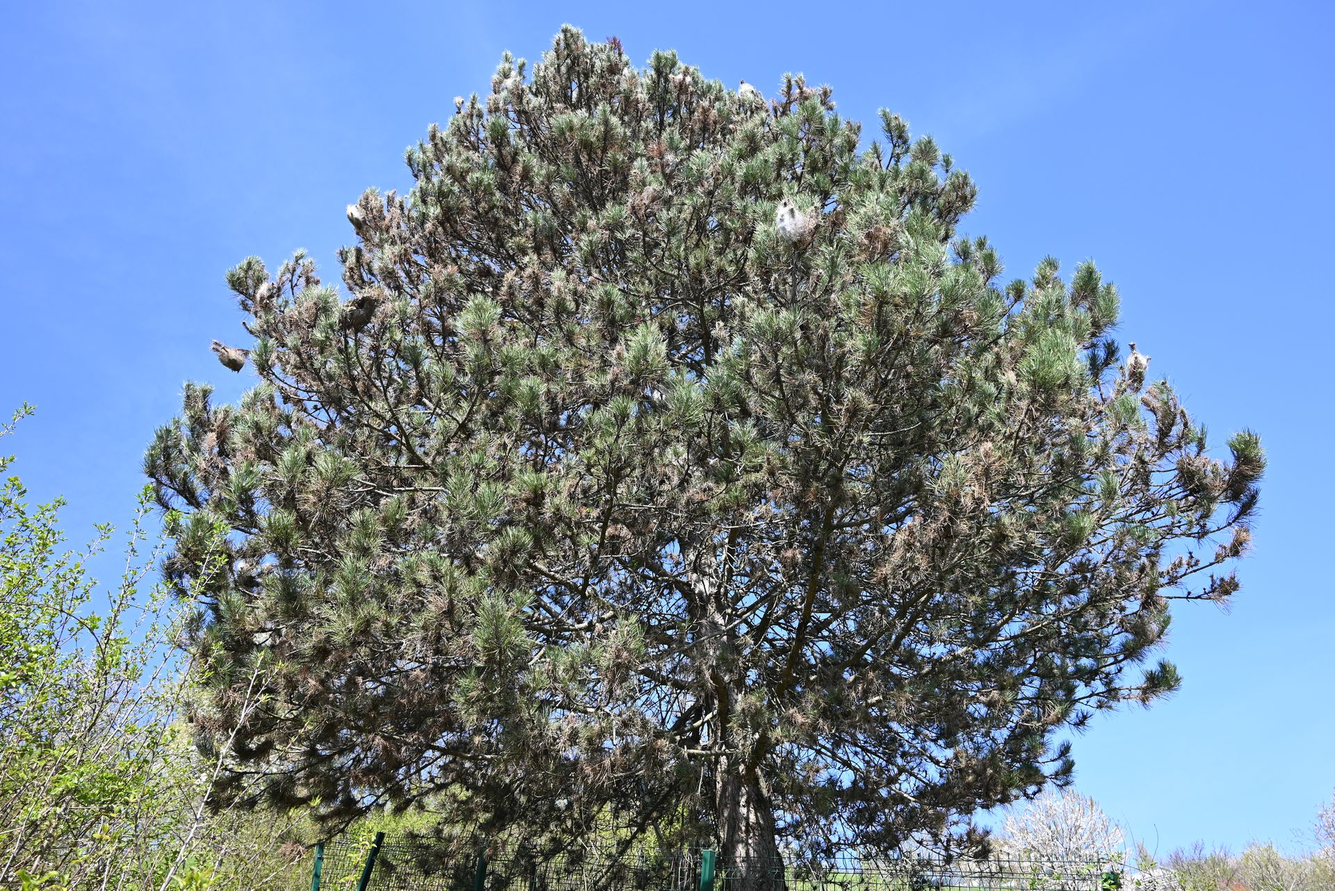thaumatopoea pityocampa jajno gnijezdo: (772, 205, 815, 236), (1122, 342, 1149, 388), (211, 345, 250, 373), (340, 199, 368, 231), (731, 83, 762, 108), (252, 285, 274, 312), (498, 77, 522, 96), (234, 562, 252, 578)
